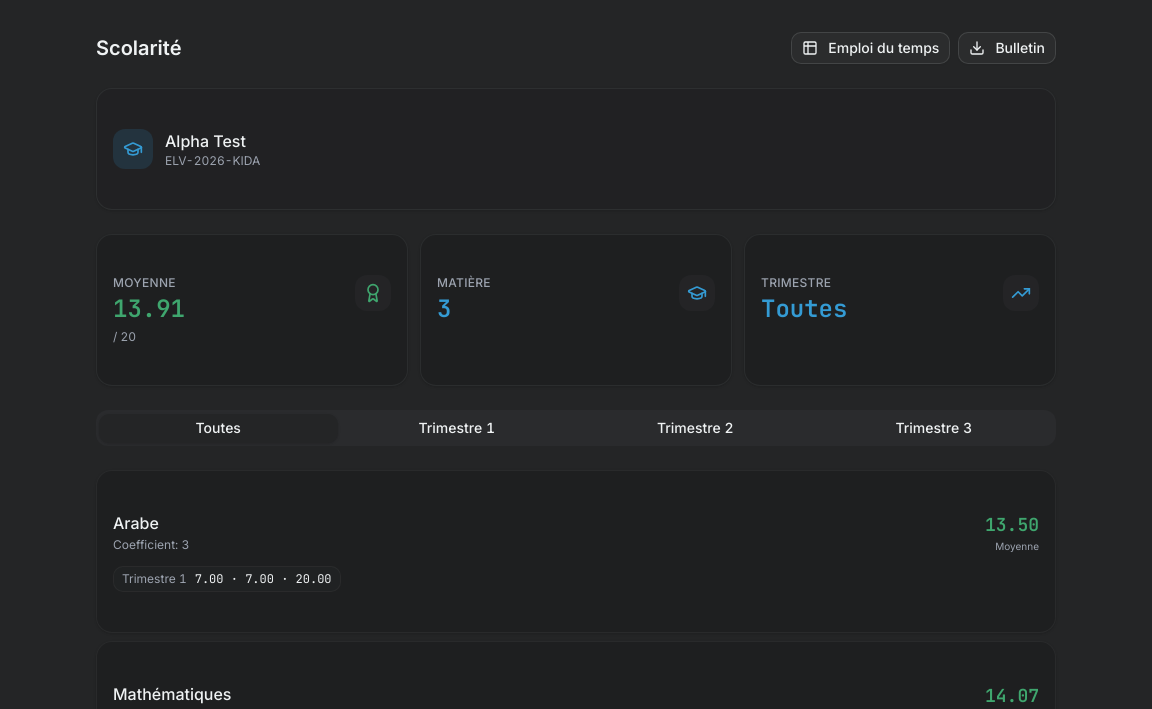
Test case: T-336 — term-scoped KPIs (desktop parity) › selecting "Trimestre 1" scopes the MOYENNE KPI to that term (canonical per-term GPA)
Press the mouse on the tab "Trimestre 1" at (457, 428), box [338,414,576,442]
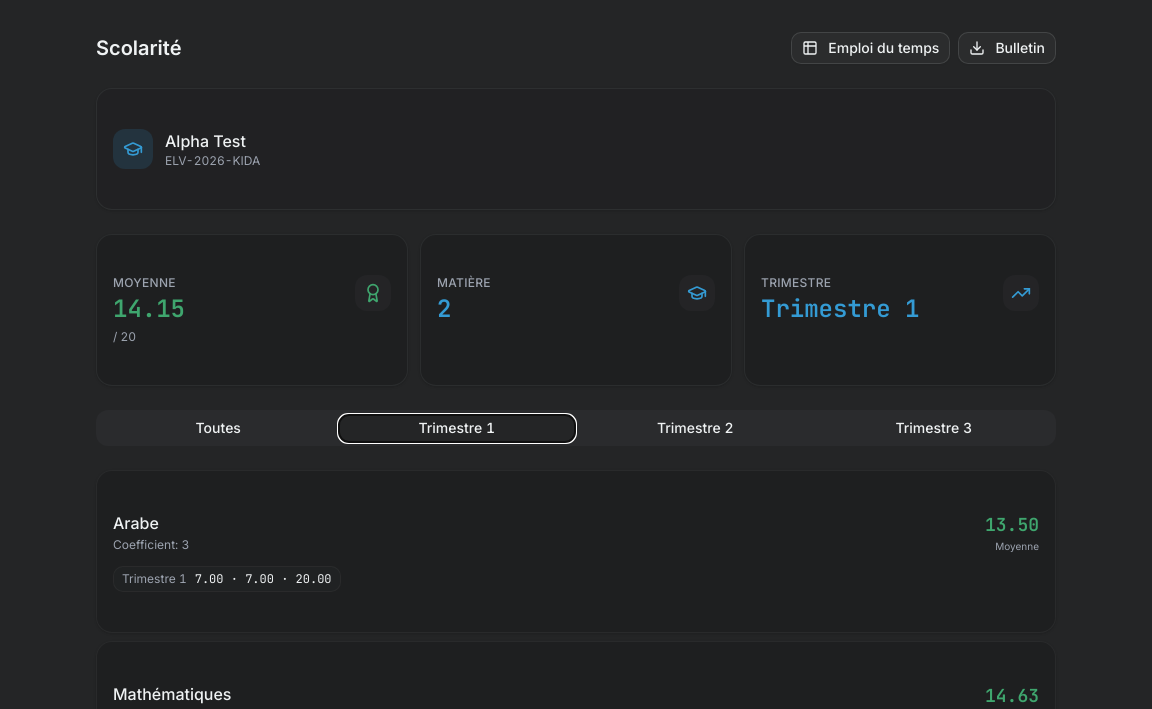
Check: the text "13.91" is gone
Check: the text "14.15" is shown, box [113,293,185,324]
